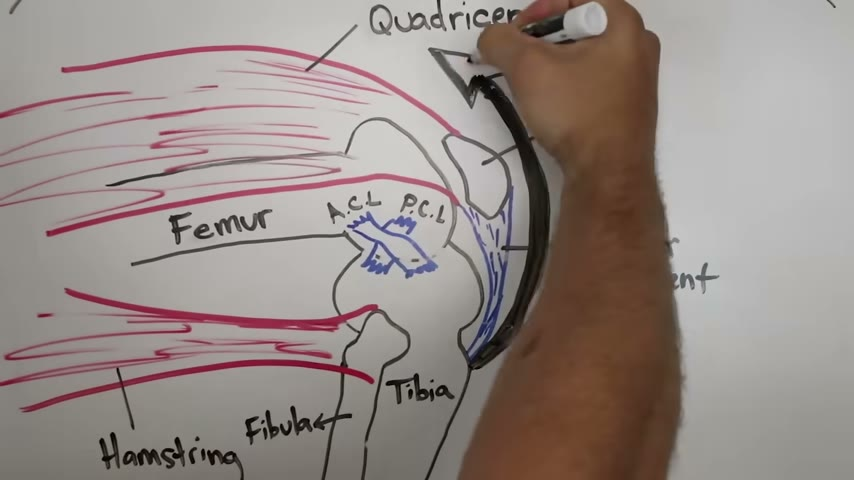barbell_plate_side: (444, 45, 575, 409)
